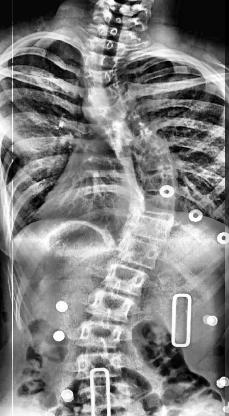Vertebrae: (102, 262, 150, 298), (98, 108, 148, 142), (75, 350, 127, 382), (88, 289, 134, 325), (120, 128, 170, 160), (117, 236, 160, 272), (76, 320, 124, 350), (90, 94, 134, 126), (131, 214, 175, 246), (132, 144, 174, 174), (136, 192, 178, 219), (139, 166, 179, 194), (86, 82, 124, 108), (88, 34, 128, 58), (98, 22, 136, 44), (83, 67, 121, 89), (86, 50, 122, 70)
